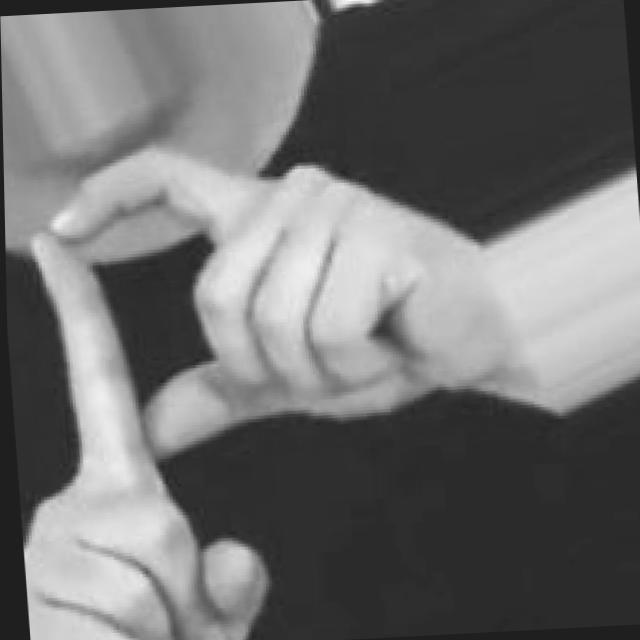D: (3, 126, 485, 640)
